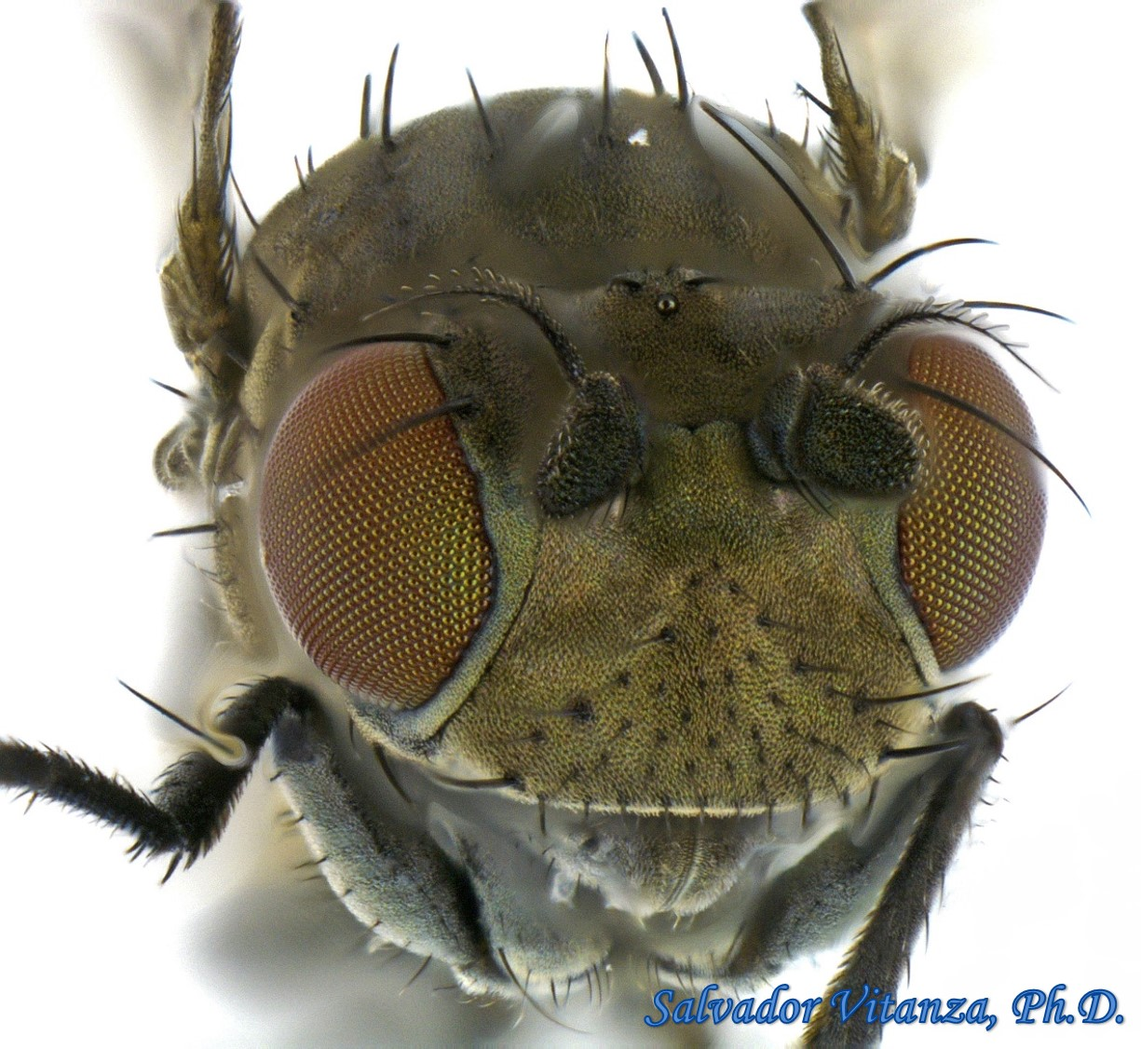Ephydridae: (7, 1, 1081, 1038)
